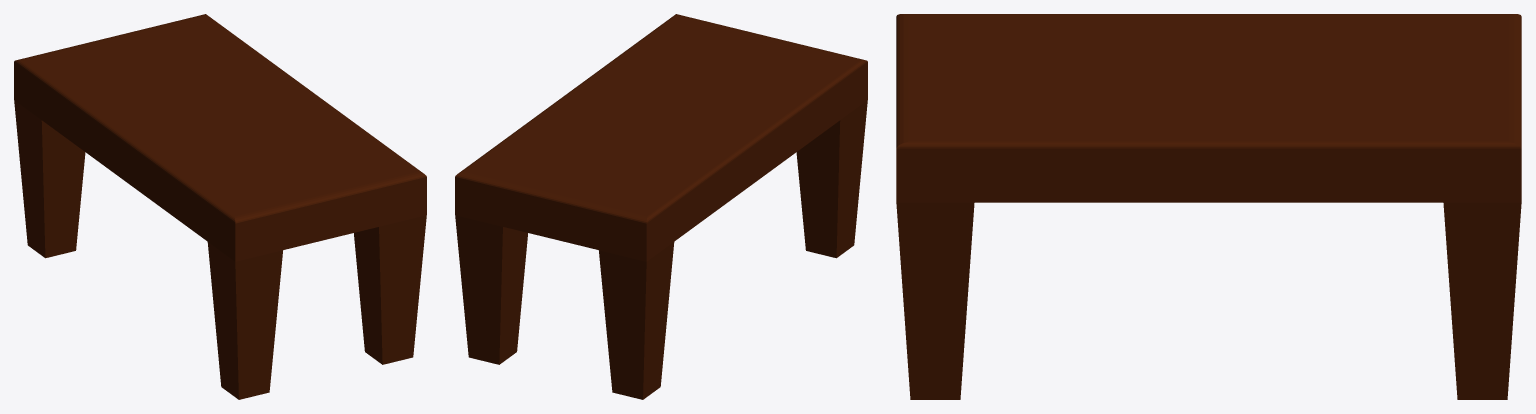
File: Coffee_table.glb
The picture shows the model from 3 angles, left to right: view 1: azimuth 30°, elevation 25°; view 2: azimuth 150°, elevation 25°; view 3: azimuth 270°, elevation 25°; orthographic projection. The views are drawn at different scales.
Parts seen in each view (by area): view 1: Coffee table; view 2: Coffee table; view 3: Coffee table.
Part boxes in pixels (bbox=[...]): Coffee table: bbox=[14, 14, 426, 399]; Coffee table: bbox=[455, 14, 867, 399]; Coffee table: bbox=[896, 14, 1521, 399].
Bounding box in the file's own units: 2 × 1.85 × 4.
